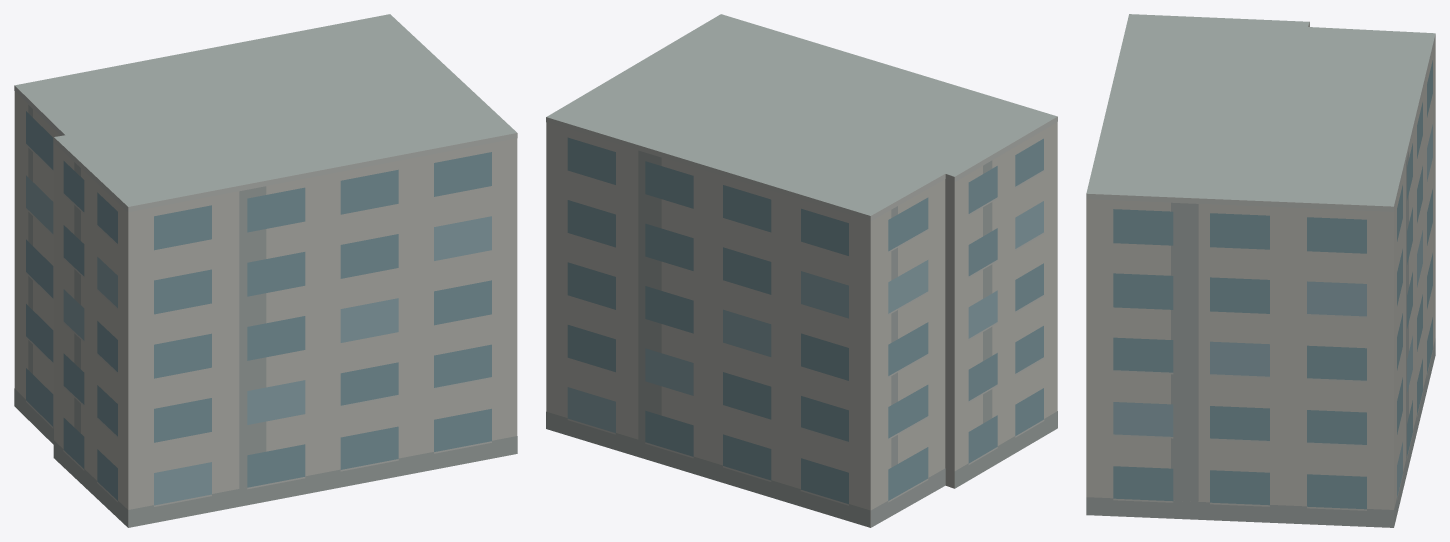
Rendered from survey-upis-32927122.glb.
3 renders of one model, left to right at view 1: azimuth 30°, elevation 25°; view 2: azimuth 150°, elevation 25°; view 3: azimuth 270°, elevation 25°, orthographic. The views are drawn at different scales.
Parts seen in each view (by area): view 1: survey-upis-32927122.tmp; view 2: survey-upis-32927122.tmp; view 3: survey-upis-32927122.tmp.
Boxes of the visible parts, x1,y1,x2,y2 form: survey-upis-32927122.tmp: [14, 14, 517, 527]; survey-upis-32927122.tmp: [546, 14, 1057, 527]; survey-upis-32927122.tmp: [1086, 14, 1435, 527].
Size of the model in its own units: 18.39 by 14.3 by 14.1.
